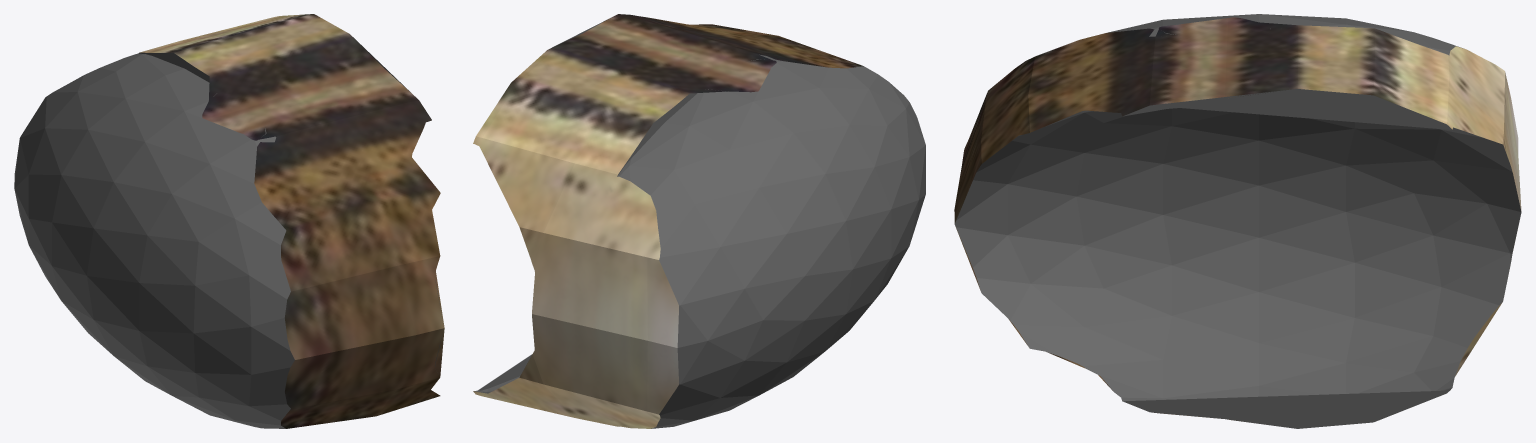
File: link_4_composite.obj
The picture shows the model from 3 angles, left to right: view 1: azimuth 30°, elevation 25°; view 2: azimuth 150°, elevation 25°; view 3: azimuth 270°, elevation 25°; orthographic projection. The views are drawn at different scales.
Bounding box in the file's own units: 0.00201 × 0.00219 × 0.0033.
Materials: 1 (1 with a texture image).
